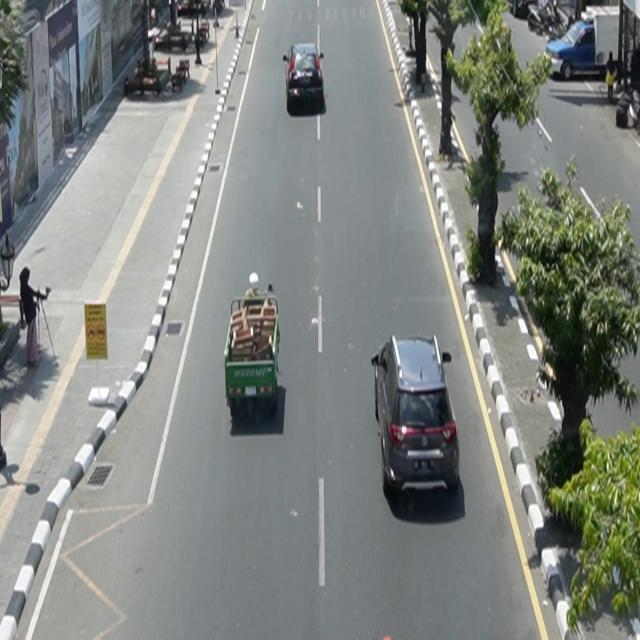car: (372, 333, 461, 496), (284, 43, 326, 113)
